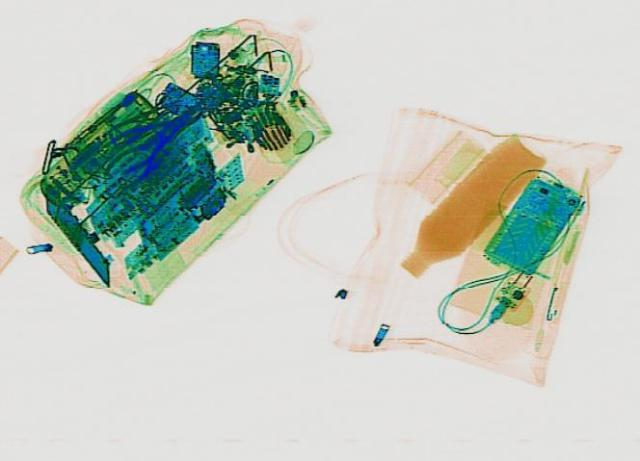Pliers: (94, 96, 220, 179)
